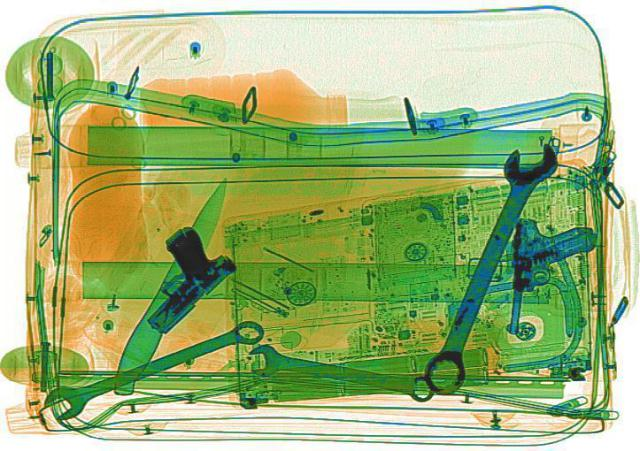Gun: (90, 222, 256, 333), (502, 215, 598, 334)
Knife: (100, 175, 240, 396)
Wrench: (410, 136, 564, 397), (32, 311, 270, 421), (234, 340, 442, 404)
